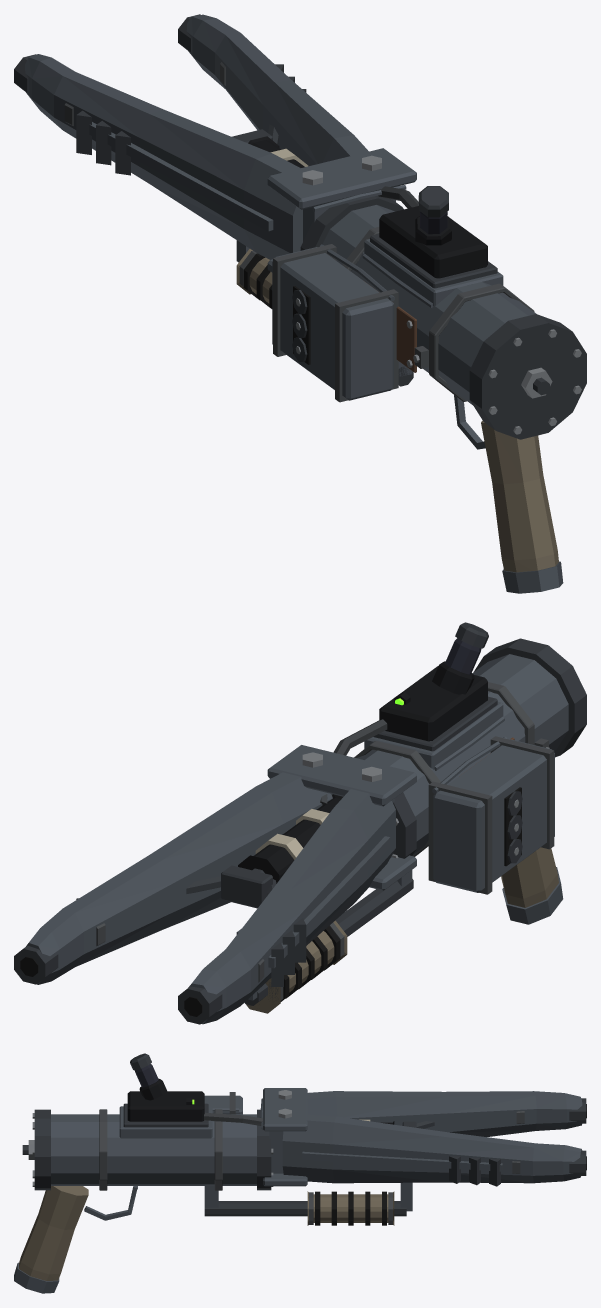
File: bulkhead_c.glb
The picture shows the model from 3 angles, top to bottom: view 1: azimuth 30°, elevation 25°; view 2: azimuth 150°, elevation 25°; view 3: azimuth 270°, elevation 25°; orthographic projection. The views are drawn at different scales.
Visible parts, largest first — view 1: Body, Feed, Pump; view 2: Body, Feed, Pump; view 3: Body, Pump, Feed.
Boxes of the visible parts, bbox=[...] form: Body: bbox=[14, 14, 586, 593]; Feed: bbox=[272, 244, 398, 402]; Pump: bbox=[236, 249, 272, 308]; Body: bbox=[14, 622, 586, 1024]; Feed: bbox=[428, 736, 554, 894]; Pump: bbox=[246, 920, 347, 1013]; Body: bbox=[14, 1053, 586, 1293]; Pump: bbox=[307, 1191, 394, 1225]; Feed: bbox=[204, 1092, 242, 1114].
Bounding box in the file's own units: 0.1591 × 0.2508 × 0.567.
